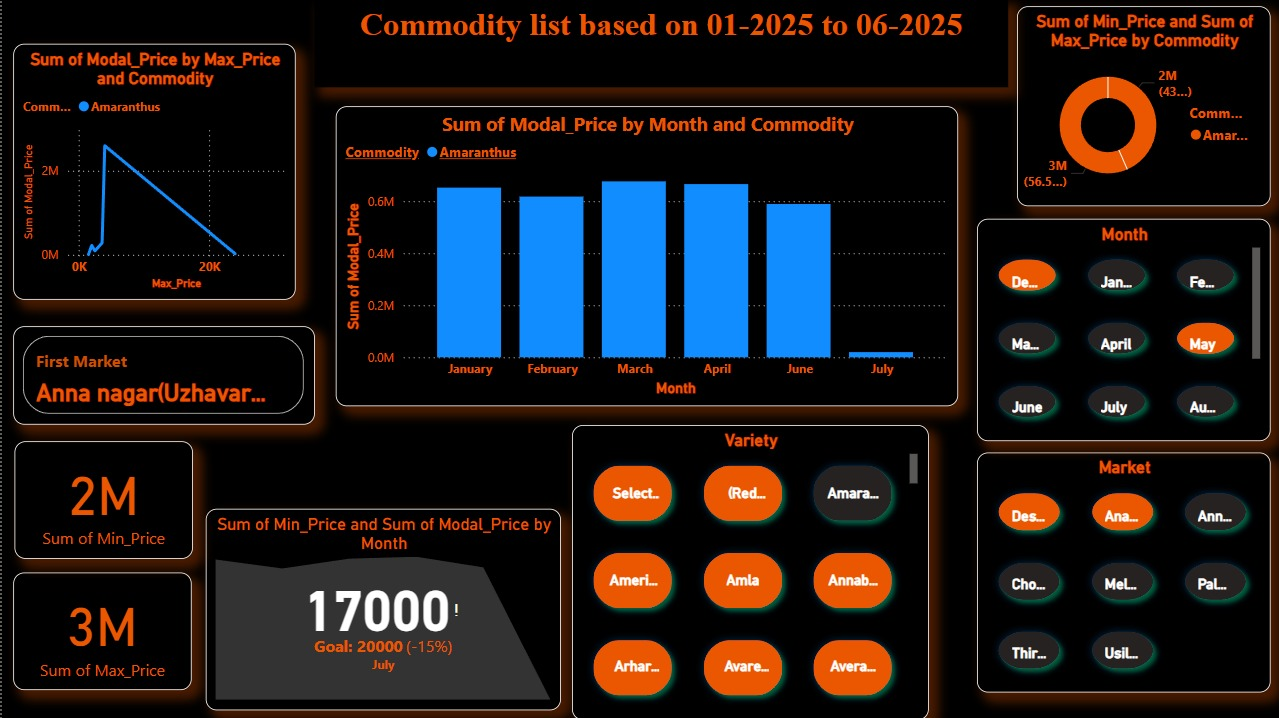

Layout of this report page (visuals, bound fields, positions):
{"tool":"powerbi","page":{"name":"Page 1","canvas":[1280,720],"ordinal":0},"visuals":[{"type":"textbox","box":[320,0,693.8,87.5],"z":0},{"type":"lineClusteredColumnComboChart","fields":{"Category":["vegetable_db vegetable_prices.Arrival_Date.Variation.Date Hierarchy.Month"],"Y":["Sum(vegetable_db vegetable_prices.Modal_Price)"],"Series":["vegetable_db vegetable_prices.Commodity"]},"box":[332.1,108.4,531,300.5],"z":1000},{"type":"advancedSlicerVisual","fields":{"Values":["vegetable_db vegetable_prices.Market"]},"box":[946.8,451.5,293.7,259.3],"z":2000},{"type":"donutChart","fields":{"Y":["Sum(vegetable_db vegetable_prices.Modal_Price)"],"Category":["vegetable_db vegetable_prices.District"]},"box":[955,108.8,253.8,200],"z":3000},{"type":"card","fields":{"Values":["Sum(vegetable_db vegetable_prices.Max_Price)"]},"box":[0,425,178.8,117.5],"z":4000},{"type":"kpi","fields":{"TrendLine":["vegetable_db vegetable_prices.Arrival_Date.Variation.Date Hierarchy.Month"],"Goal":["Sum(vegetable_db vegetable_prices.Modal_Price)"],"Indicator":["Sum(vegetable_db vegetable_prices.Min_Price)"]},"box":[197.5,471.2,355,201.2],"z":5000},{"type":"lineChart","fields":{"Series":["vegetable_db vegetable_prices.Commodity"],"Category":["vegetable_db vegetable_prices.Max_Price"],"Y":["Sum(vegetable_db vegetable_prices.Modal_Price)"]},"box":[0,143.8,282.5,256.2],"z":6000},{"type":"card","fields":{"Values":["Sum(vegetable_db vegetable_prices.Min_Price)"]},"box":[0,556.2,178.8,117.5],"z":7000},{"type":"cardVisual","fields":{"Data":["Min(vegetable_db vegetable_prices.Market)"]},"box":[945,326.2,322.5,98.8],"z":8000},{"type":"advancedSlicerVisual","fields":{"Values":["vegetable_db vegetable_prices.Variety"]},"box":[569.5,425.4,356.8,295],"z":9000}]}

Visuals, with their boxes in screenshot pixels (x1, y1, x2, y2), scaled from the page's 1280x720 canvas onto the 1279x718 screenshot:
textbox: [left=320, top=0, right=1013, bottom=87]
lineClusteredColumnComboChart - vegetable_db vegetable_prices.Arrival_Date.Variation.Date Hierarchy.Month x Sum(vegetable_db vegetable_prices.Modal_Price): [left=332, top=108, right=862, bottom=408]
advancedSlicerVisual - vegetable_db vegetable_prices.Market: [left=946, top=450, right=1240, bottom=709]
donutChart - Sum(vegetable_db vegetable_prices.Modal_Price) x vegetable_db vegetable_prices.District: [left=954, top=108, right=1208, bottom=308]
card - Sum(vegetable_db vegetable_prices.Max_Price): [left=0, top=424, right=179, bottom=541]
kpi - vegetable_db vegetable_prices.Arrival_Date.Variation.Date Hierarchy.Month x Sum(vegetable_db vegetable_prices.Modal_Price): [left=197, top=470, right=552, bottom=671]
lineChart - vegetable_db vegetable_prices.Commodity x vegetable_db vegetable_prices.Max_Price: [left=0, top=143, right=282, bottom=399]
card - Sum(vegetable_db vegetable_prices.Min_Price): [left=0, top=555, right=179, bottom=672]
cardVisual - Min(vegetable_db vegetable_prices.Market): [left=944, top=325, right=1267, bottom=424]
advancedSlicerVisual - vegetable_db vegetable_prices.Variety: [left=569, top=424, right=926, bottom=717]
